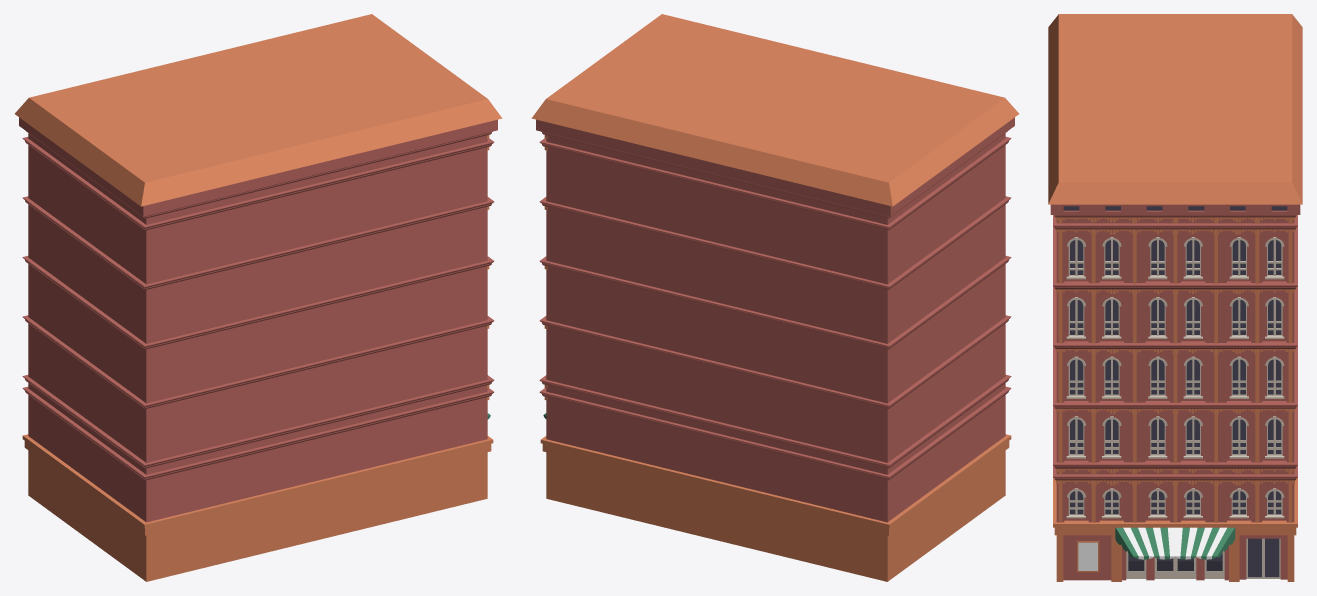
The model's file is Building11.fbx.
3 views of the same model, side by side, from view 1: azimuth 30°, elevation 25°; view 2: azimuth 150°, elevation 25°; view 3: azimuth 270°, elevation 25° (orthographic).
Visible parts, largest first — view 1: Plane.037, Plane.036, Plane.033, Plane.035, Plane.034, Plane.056, Plane.055; view 2: Plane.037, Plane.036, Plane.033, Plane.035, Plane.056, Plane.034, Plane.055; view 3: Plane.037, Plane.036, Plane.055, Plane.034, Plane.035, Plane.033, Plane.056.
Boxes of the visible parts, x1=… form: Plane.037: x1=15, y1=14, x2=502, y2=216; Plane.036: x1=22, y1=131, x2=494, y2=522; Plane.033: x1=22, y1=413, x2=493, y2=581; Plane.035: x1=22, y1=256, x2=494, y2=403; Plane.034: x1=22, y1=315, x2=494, y2=462; Plane.056: x1=22, y1=137, x2=494, y2=284; Plane.055: x1=22, y1=196, x2=494, y2=343; Plane.037: x1=531, y1=14, x2=1018, y2=216; Plane.036: x1=539, y1=131, x2=1011, y2=522; Plane.033: x1=540, y1=413, x2=1011, y2=581; Plane.035: x1=539, y1=256, x2=1011, y2=403; Plane.056: x1=539, y1=137, x2=1011, y2=284; Plane.034: x1=539, y1=315, x2=1011, y2=462; Plane.055: x1=539, y1=196, x2=1011, y2=343; Plane.037: x1=1048, y1=14, x2=1302, y2=214; Plane.036: x1=1053, y1=215, x2=1297, y2=522; Plane.055: x1=1053, y1=226, x2=1297, y2=343; Plane.034: x1=1053, y1=346, x2=1297, y2=462; Plane.035: x1=1053, y1=286, x2=1297, y2=402; Plane.033: x1=1053, y1=477, x2=1297, y2=581; Plane.056: x1=1053, y1=215, x2=1297, y2=283.
Size of the model in its own units: 3448 by 3350 by 1930.
